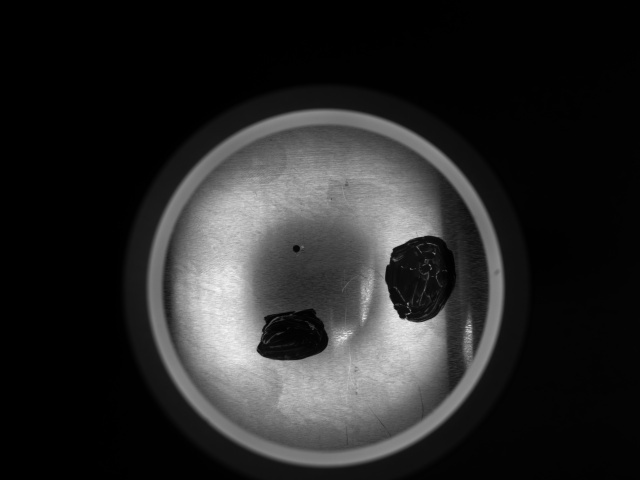zang_wu: (382, 235, 459, 324), (253, 306, 336, 361)
zhen_kong: (291, 243, 306, 255)
